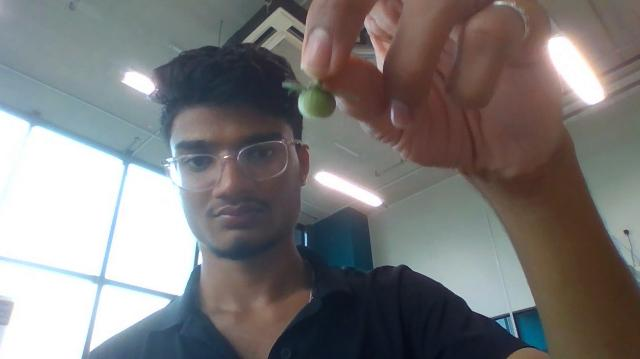Fruit Maturation: (298, 81, 336, 120)
